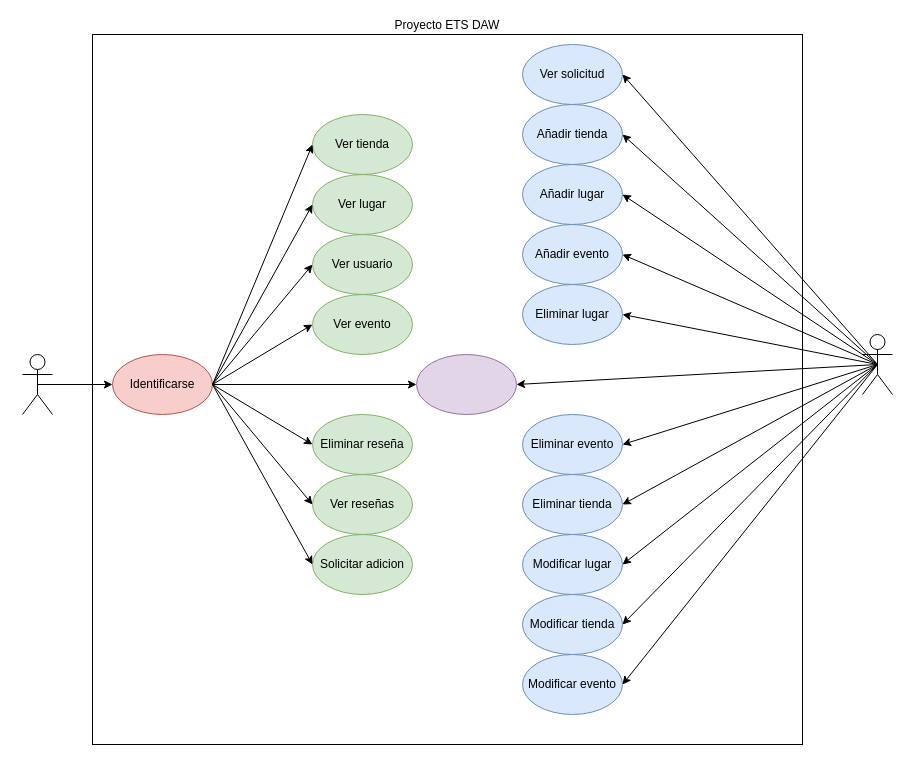
The diagram is 912 pixels wide and 762 high, and some of its shapes have lost their labels. The box of each missing label's shape, as (x1, y1, x2, y2) in pixels:
Admin: (862, 334, 892, 394)
Hacer reseña: (416, 354, 516, 414)
Usuario: (22, 354, 52, 414)
